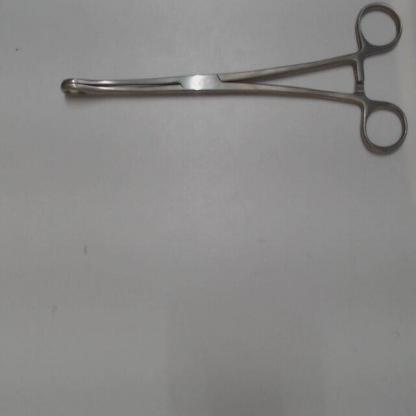Sponge Forceps: (51, 0, 412, 160)
